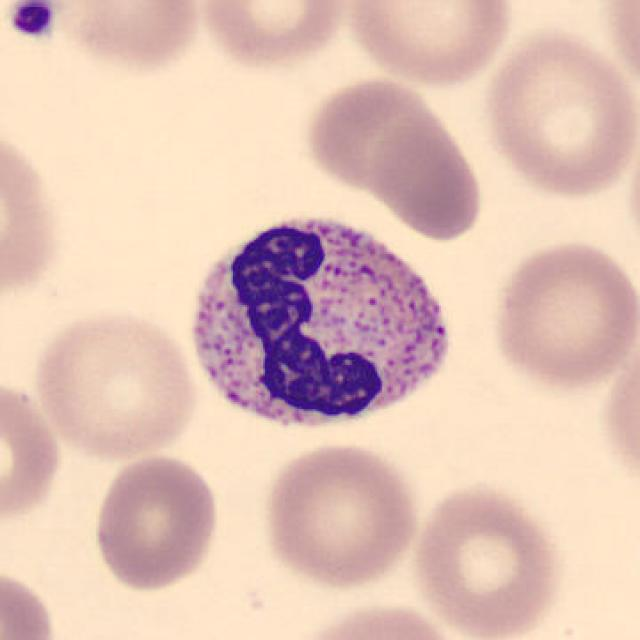Neutrophil: (176, 199, 464, 448)
Platelets: (3, 0, 60, 42)
RBC: (478, 23, 638, 203), (28, 305, 201, 462), (407, 480, 569, 638), (258, 439, 423, 591), (487, 235, 637, 393), (299, 72, 453, 198), (89, 452, 224, 594), (368, 88, 489, 245), (341, 0, 519, 90), (27, 0, 208, 74), (0, 117, 66, 316), (193, 0, 355, 72), (0, 376, 66, 532), (286, 597, 467, 640), (597, 330, 640, 500), (0, 564, 60, 640), (597, 0, 639, 102)
